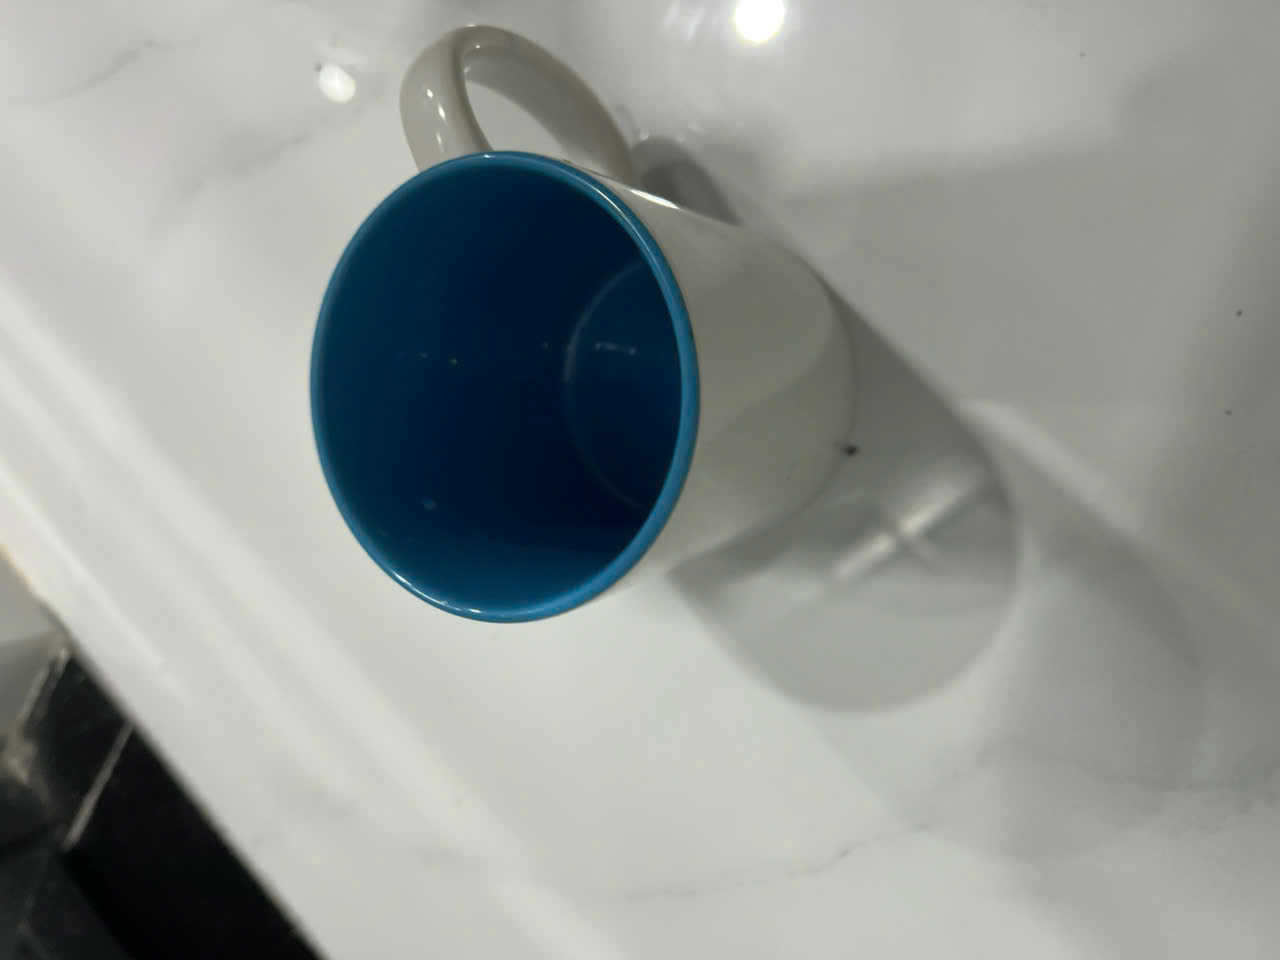ly coc: (235, 26, 889, 664)
